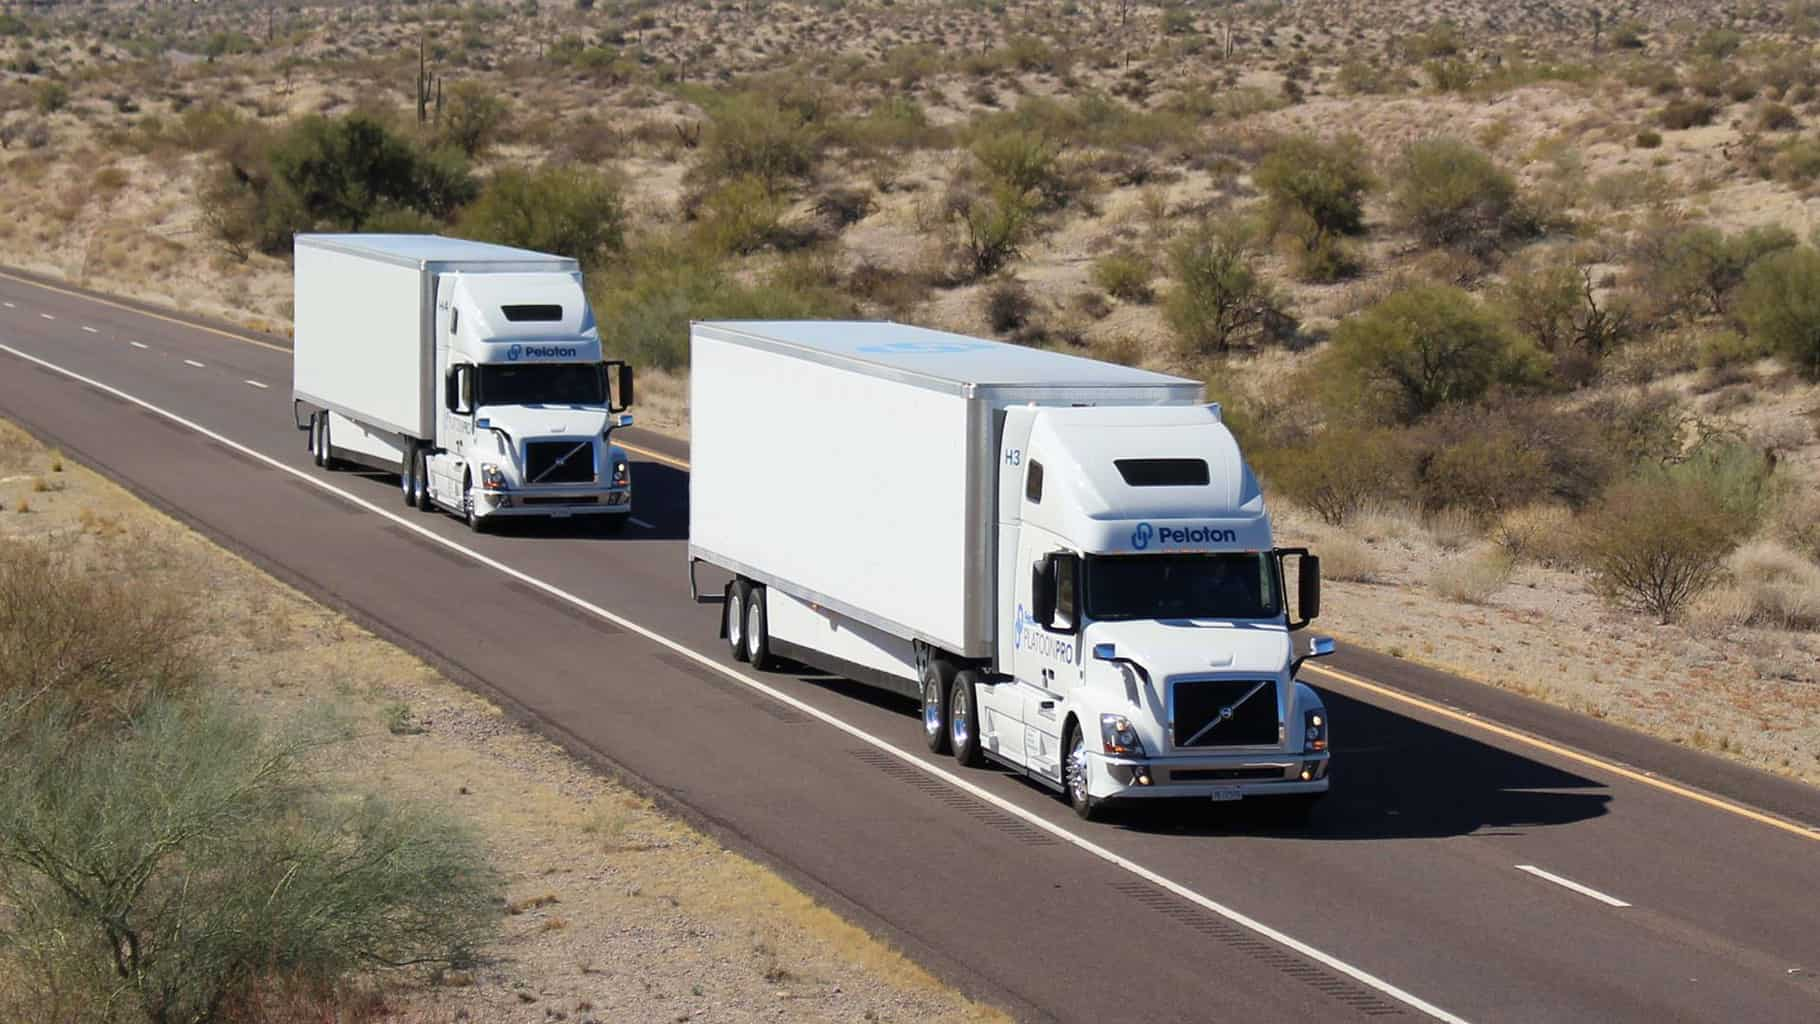truck: (687, 321, 1331, 815), (287, 229, 634, 536)
